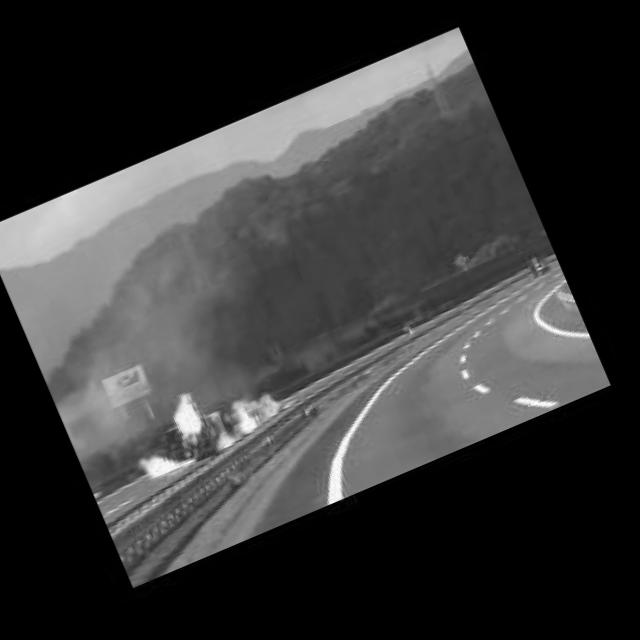fire: (204, 386, 288, 451), (130, 437, 202, 488), (164, 387, 208, 442)
